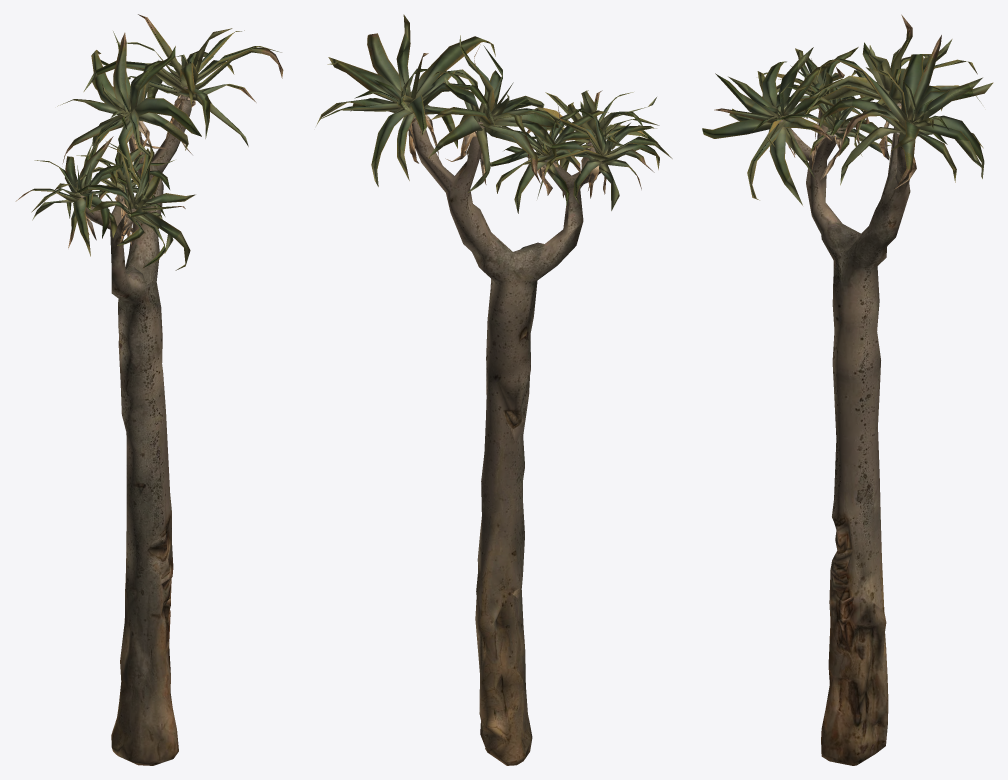
The model's file is quiver.glb.
3 views of the same model, side by side, from view 1: azimuth 30°, elevation 25°; view 2: azimuth 150°, elevation 25°; view 3: azimuth 270°, elevation 25° (orthographic). The views are drawn at different scales.
Parts seen in each view (by area): view 1: quiver_tree_01; view 2: quiver_tree_01; view 3: quiver_tree_01.
Part boxes in pixels (x1,y1,x2,y2): quiver_tree_01: (15,14,283,765); quiver_tree_01: (316,14,672,765); quiver_tree_01: (702,14,993,765).
Bounding box in the file's own units: 1.18 × 2.72 × 0.9615.
2 materials, 2 textured.
